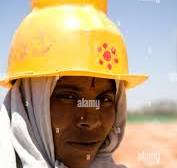HELMET: (0, 8, 147, 89)
